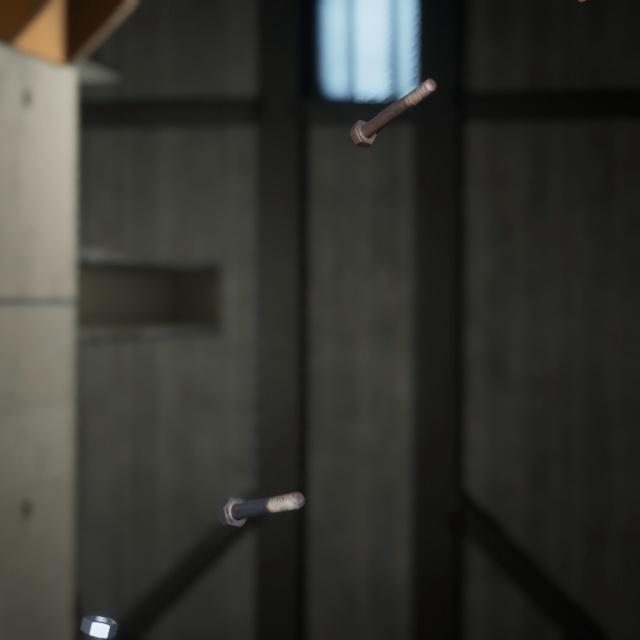bolt: (345, 62, 441, 140), (214, 464, 309, 510)
nut: (76, 586, 122, 619)
